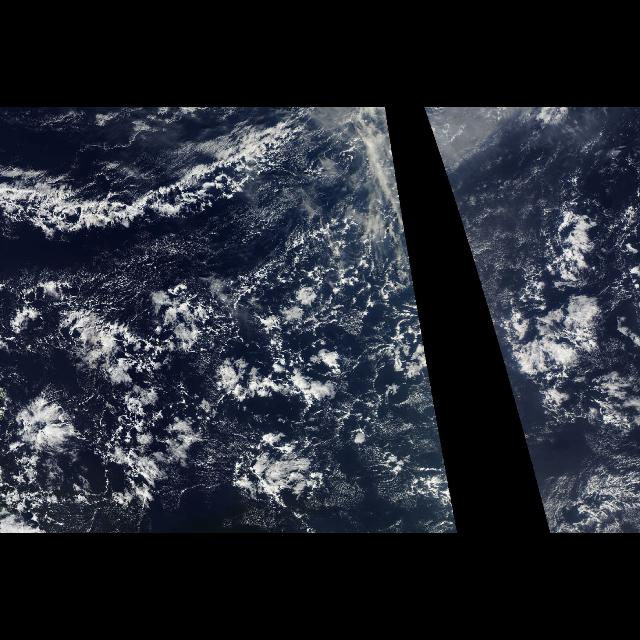Fish: (8, 121, 328, 233)
Flower: (2, 366, 106, 486)
Gravel: (263, 263, 425, 435)
